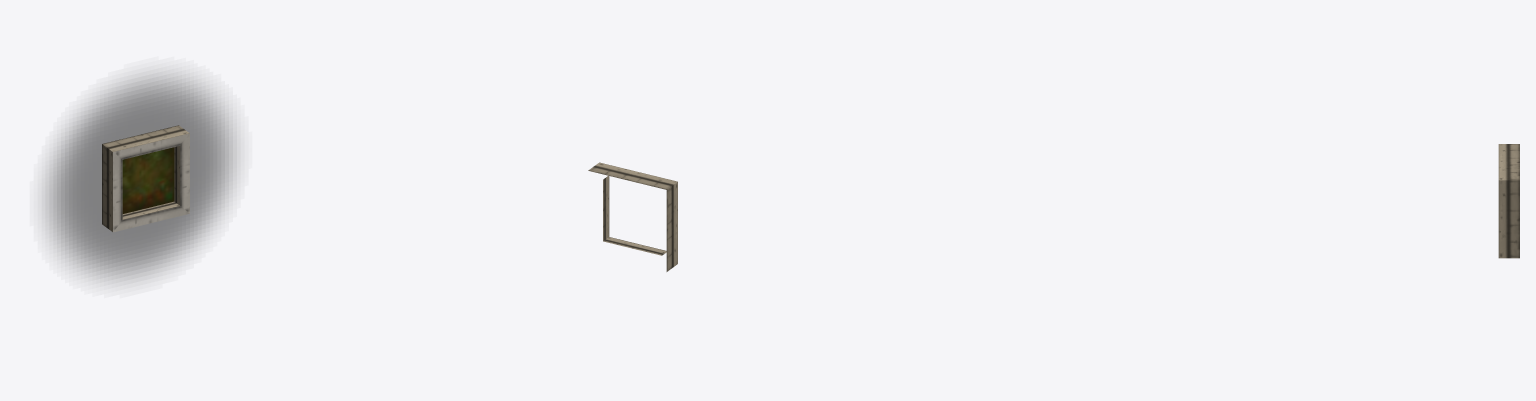
File: prop_tree_large_brickbox_ul.glb
3 renders of one model, left to right at view 1: azimuth 30°, elevation 25°; view 2: azimuth 150°, elevation 25°; view 3: azimuth 270°, elevation 25°, orthographic. The views are drawn at different scales.
Parts seen in each view (by area): view 1: shadow_large_brickbox_ul, box_drit; view 2: box_drit; view 3: box_drit.
Boxes of the visible parts, bbox=[...] form: shadow_large_brickbox_ul: bbox=[45, 73, 236, 282]; box_drit: bbox=[102, 125, 189, 232]; box_drit: bbox=[588, 162, 677, 271]; box_drit: bbox=[1498, 144, 1519, 258].
Bounding box in the file's own units: 16.89 × 16.89 × 29.25.
4 materials, 4 textured.
